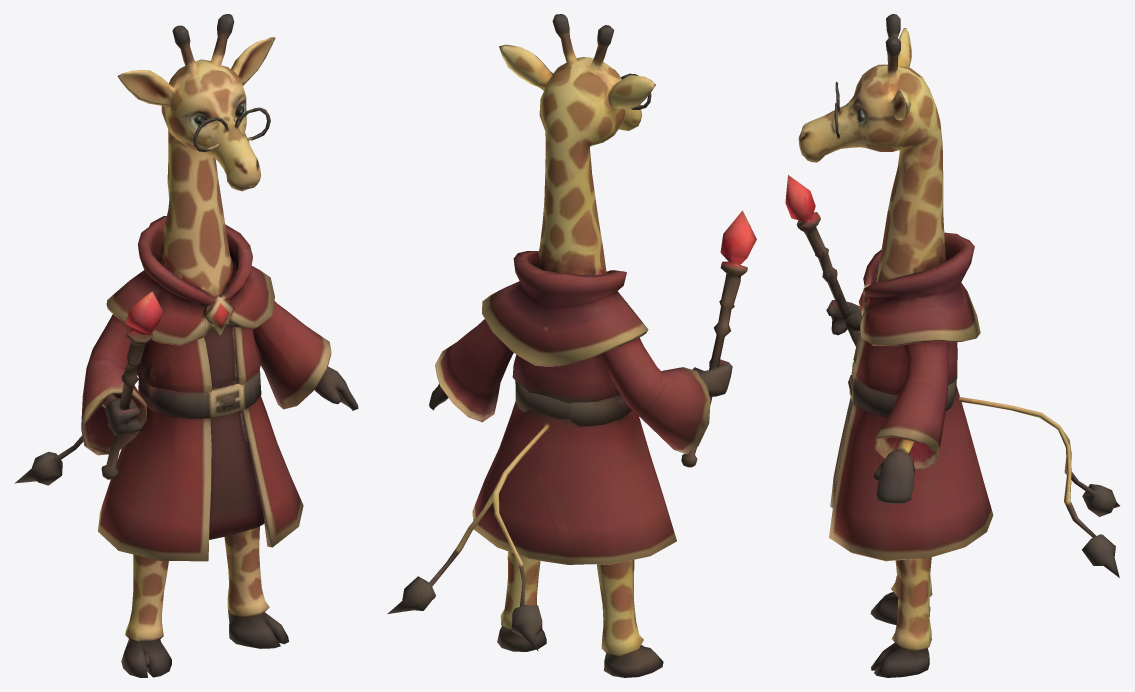
File: sraraff.glb
The picture shows the model from 3 angles, left to right: view 1: azimuth 30°, elevation 25°; view 2: azimuth 150°, elevation 25°; view 3: azimuth 270°, elevation 25°; orthographic projection. The views are drawn at different scales.
Visible parts, largest first — view 1: Mesh_0; view 2: Mesh_0; view 3: Mesh_0.
Part boxes in pixels (box(x1,y1,x2,y2)): Mesh_0: box(15, 14, 358, 677); Mesh_0: box(387, 14, 756, 677); Mesh_0: box(785, 14, 1119, 677).
Bounding box in the file's own units: 0.9062 × 2 × 0.9922.
Materials: 1 (1 with a texture image).
